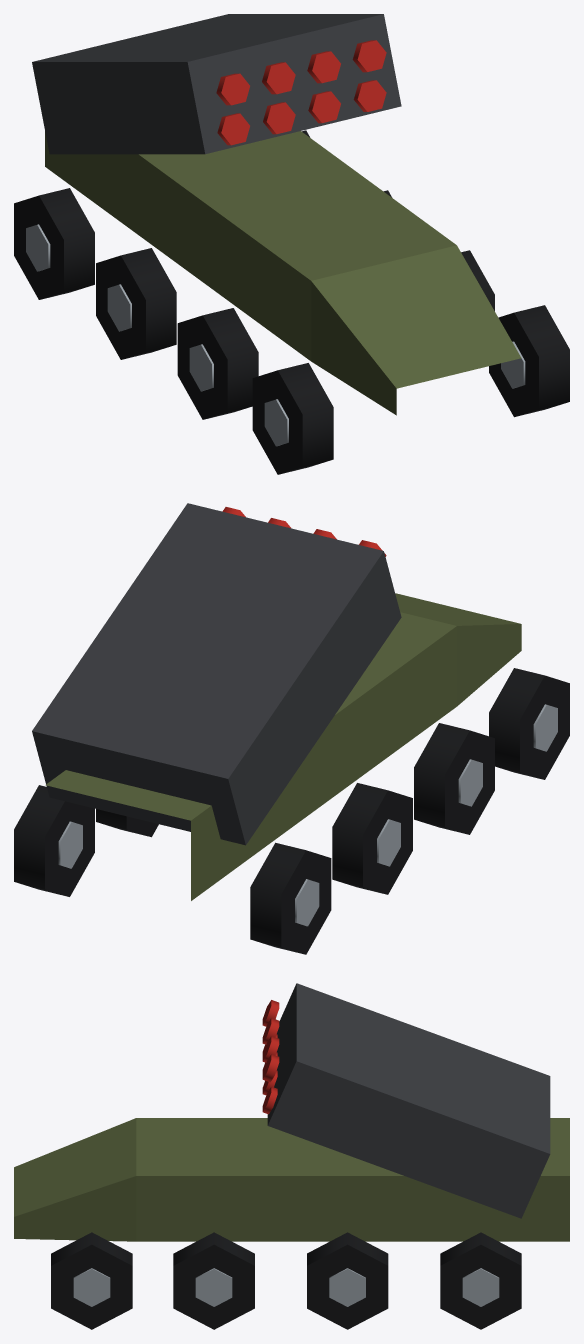
The model's file is veh_ground_rocket_launcher_a08_lod1.glb.
3 views of the same model, one above another, from view 1: azimuth 30°, elevation 25°; view 2: azimuth 150°, elevation 25°; view 3: azimuth 270°, elevation 25° (orthographic). The views are drawn at different scales.
Parts seen in each view (by area): view 1: body, launcher, wheel_6, wheel_0, wheel_2, wheel_4, wheel_7; view 2: launcher, body, wheel_0, wheel_4, wheel_2, wheel_6, wheel_1, wheel_3; view 3: body, launcher, wheel_1, wheel_5, wheel_7, wheel_3.
Boxes of the visible parts, x1,y1,x2,y2 form: body: [45, 131, 521, 415]; launcher: [32, 14, 401, 154]; wheel_6: [252, 363, 333, 474]; wheel_0: [14, 188, 94, 299]; wheel_2: [96, 248, 176, 359]; wheel_4: [177, 308, 258, 419]; wheel_7: [489, 305, 569, 417]; launcher: [32, 503, 401, 845]; body: [45, 593, 521, 900]; wheel_0: [250, 842, 331, 954]; wheel_4: [414, 723, 494, 834]; wheel_2: [332, 783, 412, 894]; wheel_6: [489, 668, 569, 779]; wheel_1: [14, 785, 94, 896]; wheel_3: [96, 809, 158, 837]; body: [14, 1118, 569, 1241]; launcher: [262, 983, 550, 1218]; wheel_1: [440, 1232, 521, 1329]; wheel_5: [173, 1232, 254, 1329]; wheel_7: [51, 1232, 132, 1329]; wheel_3: [307, 1232, 388, 1329].
Size of the model in its own units: 2.98 by 3.28 by 6.5.
